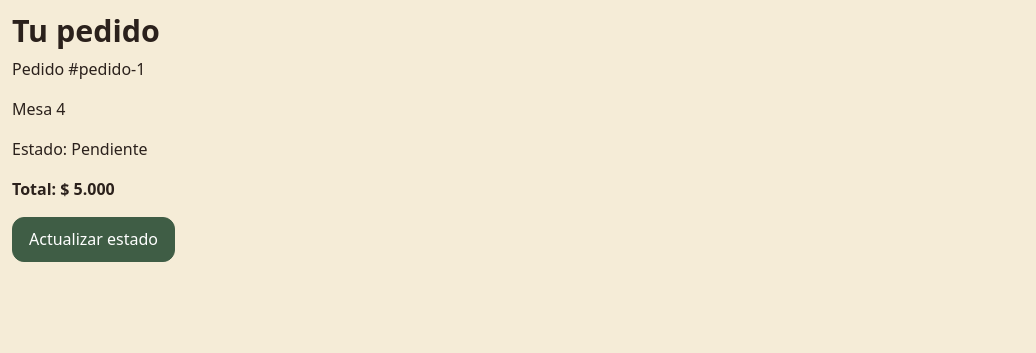
SeguimientoPedido › conserva el estado si la actualización viene incompleta
What coordinates should you click on to do the following:
click the button "Actualizar estado"
I would click on:
 (94, 239)
Its box is left=12, top=216, right=175, bottom=262.
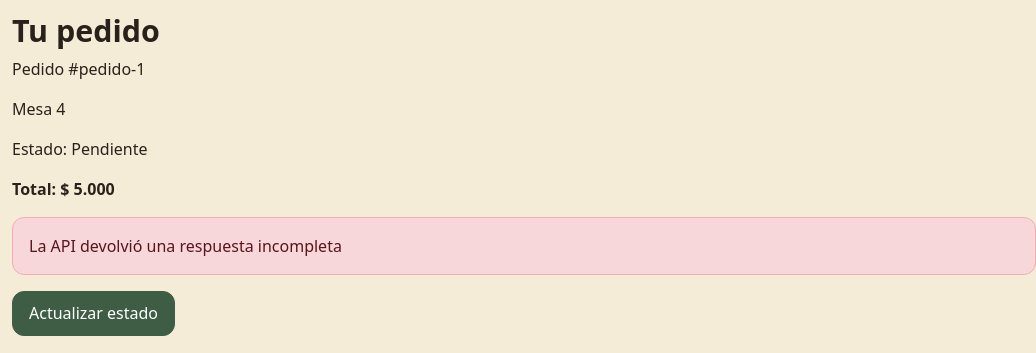
Expected: the text "Estado: Pendiente" is shown, left=12, top=138, right=148, bottom=160
Result: the message shows "respuesta incompleta" at left=29, top=234, right=342, bottom=256
